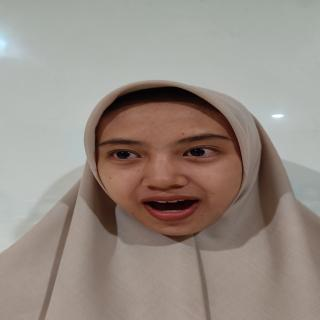Takut: (91, 94, 266, 245)
